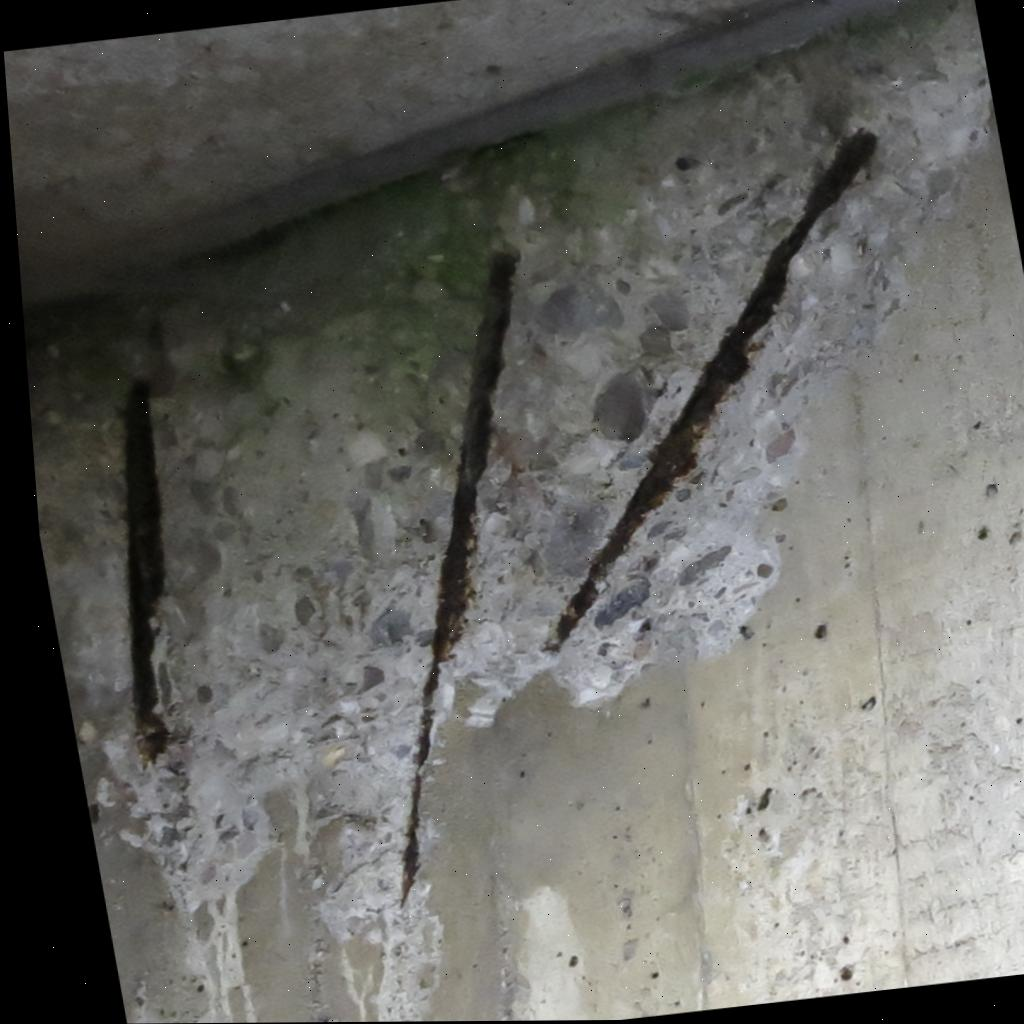exposed_rebar: (546, 131, 876, 650), (401, 249, 519, 901), (122, 380, 170, 761)
spalling: (24, 0, 995, 1022)
